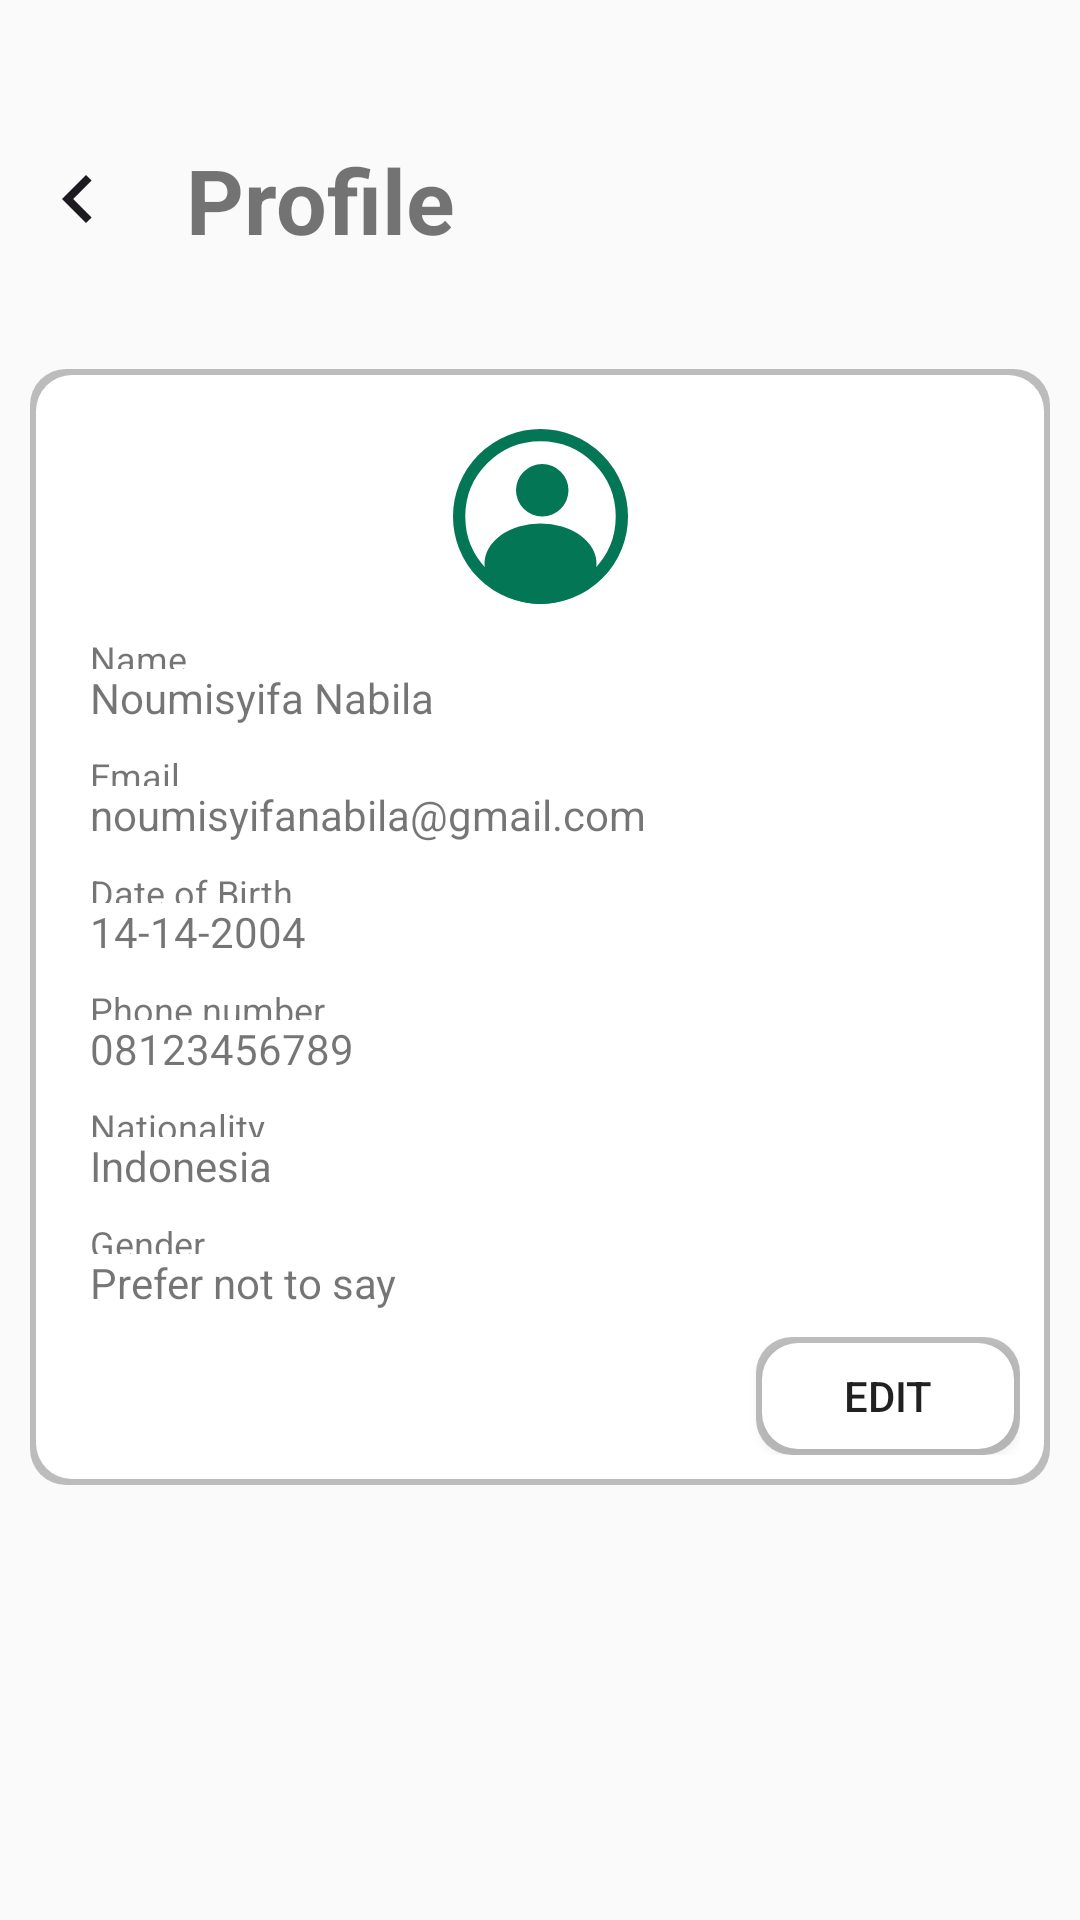

Locate icon controls on the screen. Image size 1080px×1920px, boxes as box(x1, y1, x2, y2).
back: box(62, 175, 92, 223)
persona: box(453, 429, 628, 604)
